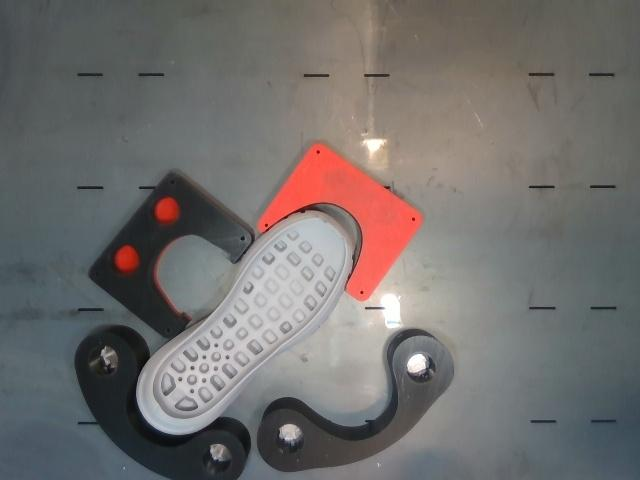shoes: (153, 219, 346, 419)
